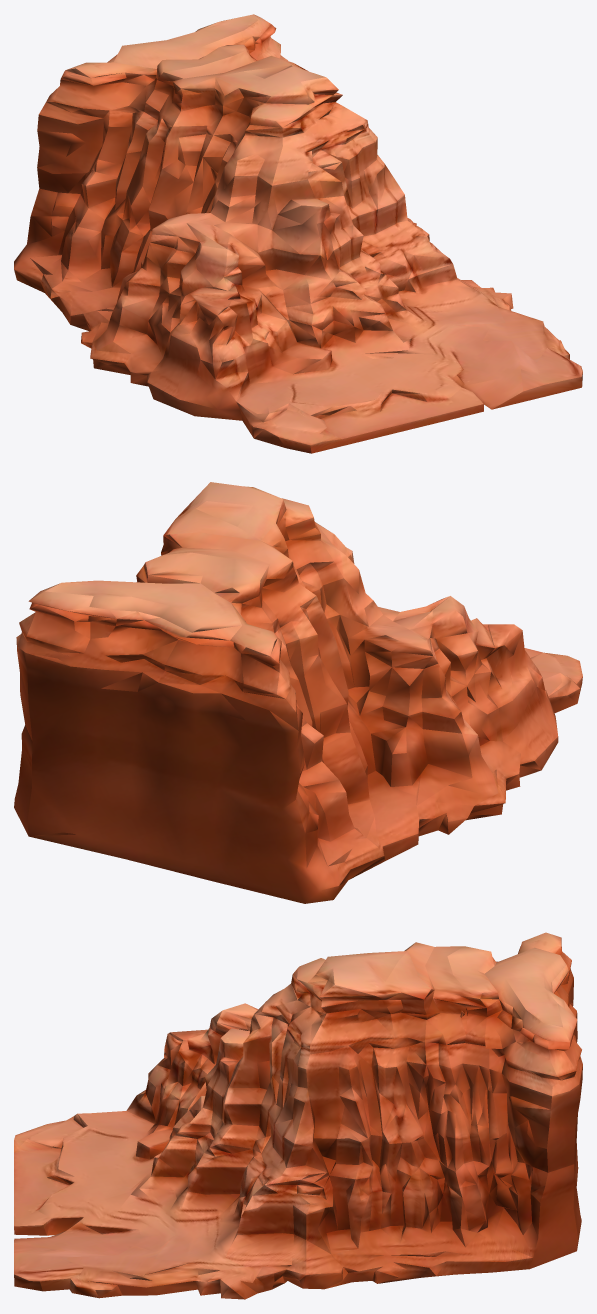
File: m2CanyonBg.glb
3 renders of one model, top to bottom at view 1: azimuth 30°, elevation 25°; view 2: azimuth 150°, elevation 25°; view 3: azimuth 270°, elevation 25°, orthographic. The views are drawn at different scales.
Parts seen in each view (by area): view 1: model; view 2: model; view 3: model.
Boxes of the visible parts, x1,y1,x2,y2 form: model: [14, 14, 582, 453]; model: [14, 482, 582, 903]; model: [14, 932, 582, 1299].
Size of the model in its own units: 1.57 by 0.913 by 1.9.
1 material, 1 textured.
